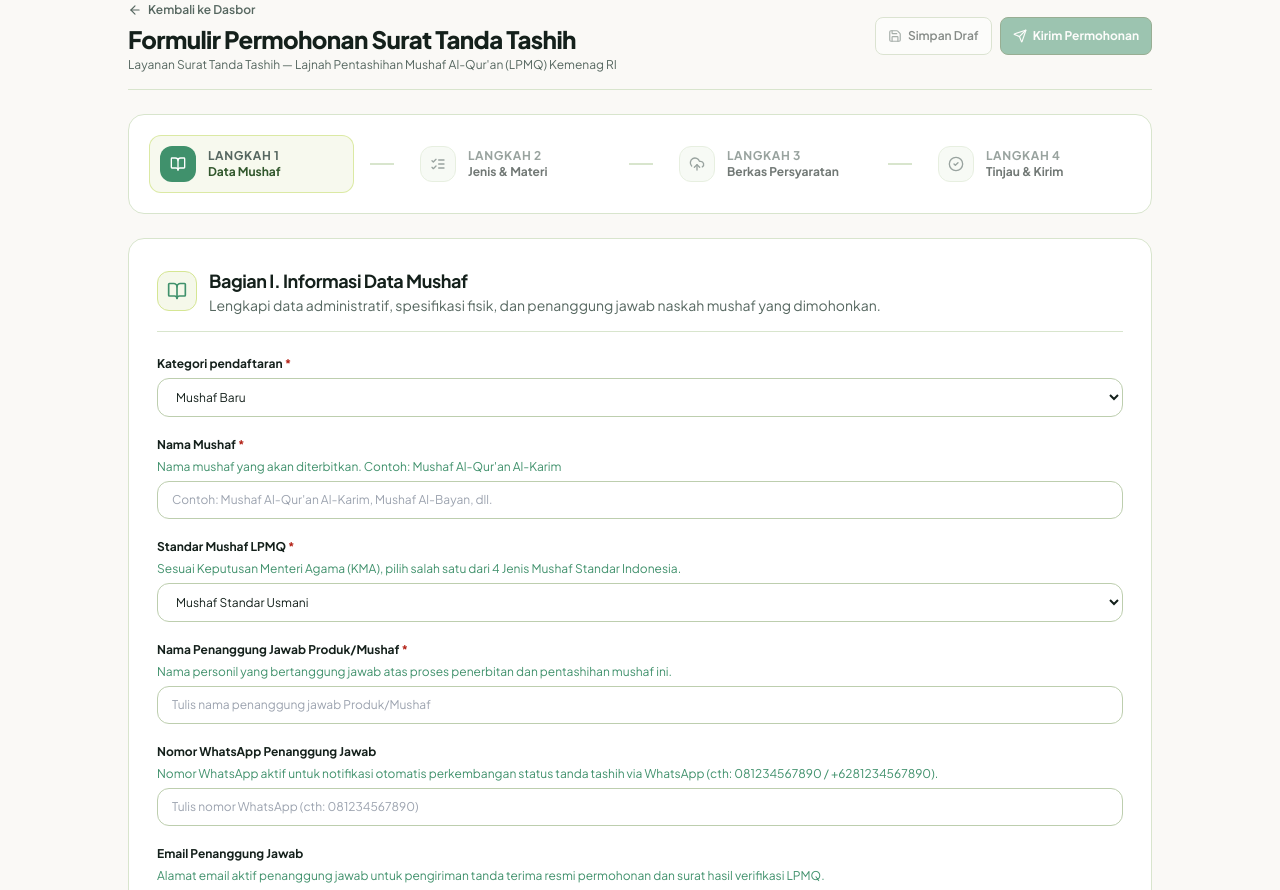
Scenario: NewRegistration Stepper and Enhancements › focuses on invalid WhatsApp input (registration-pj-wa) when validation fails
The image size is (1280, 890).
Type "Mushaf Al-Qur'an Standar" into the field with placeholder "Contoh: Mushaf Al-Qur'an Al-Karim, Mushaf Al-Bayan, dll." at (640, 500), box [157,481,1123,519]
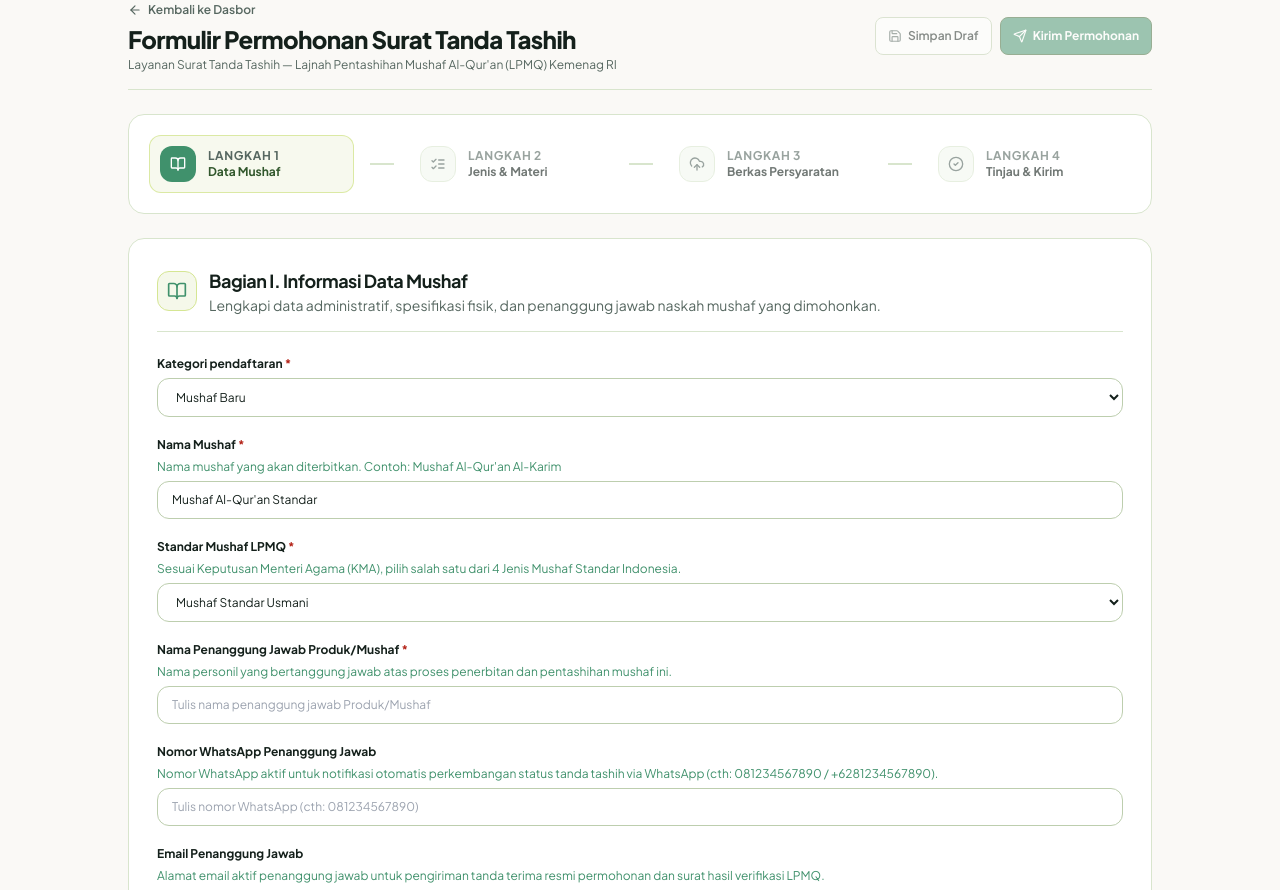
Type "Jasmin Izzah" into the field with placeholder "Tulis nama penanggung jawab Produk/Mushaf" at (640, 705), box [157,686,1123,724]
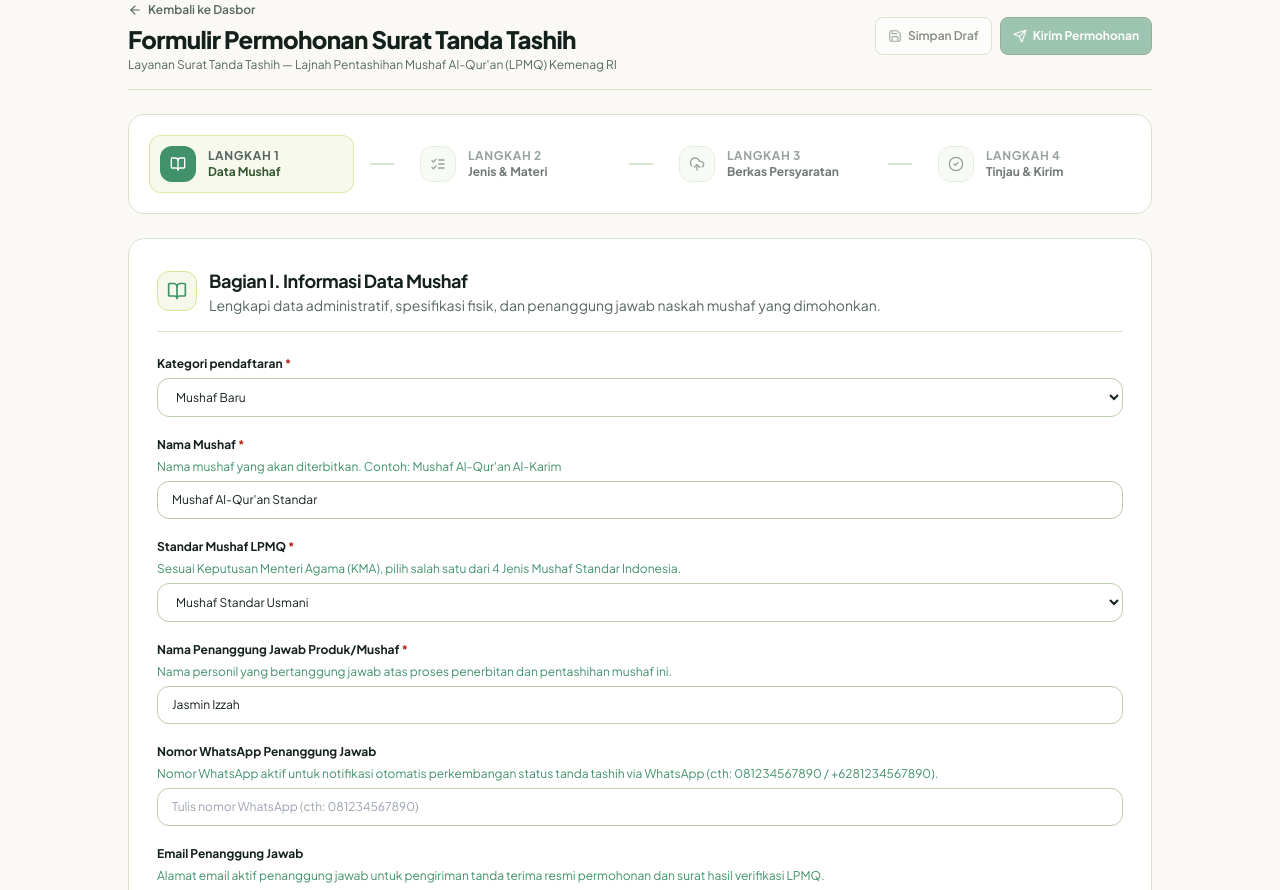
Type "123" into the field with id "registration-pj-wa" at (640, 807), box [157,788,1123,826]
(page scrolled)
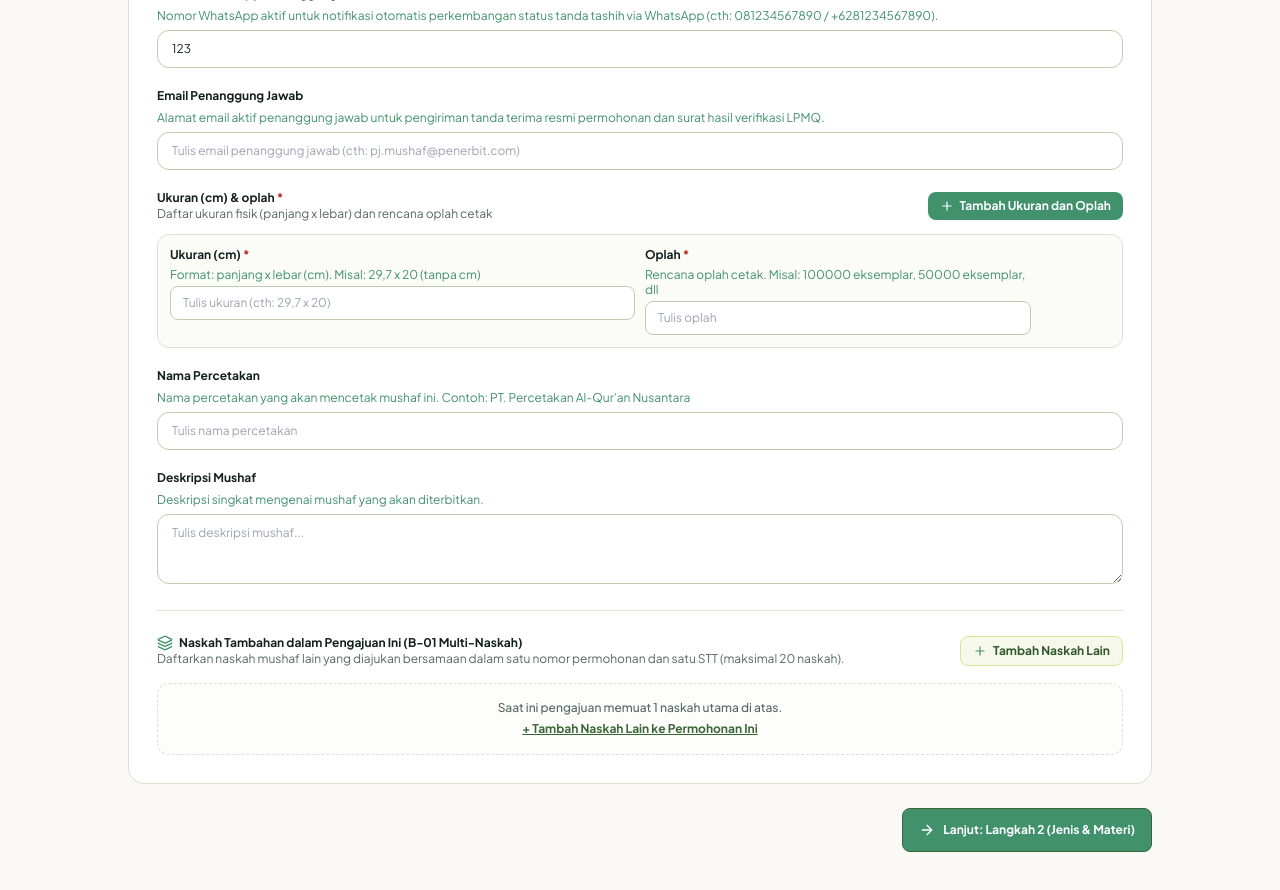
Click the button "Lanjut: Langkah 2 (Jenis & Materi)" at (1027, 830), box [902,808,1152,852]
(page scrolled)
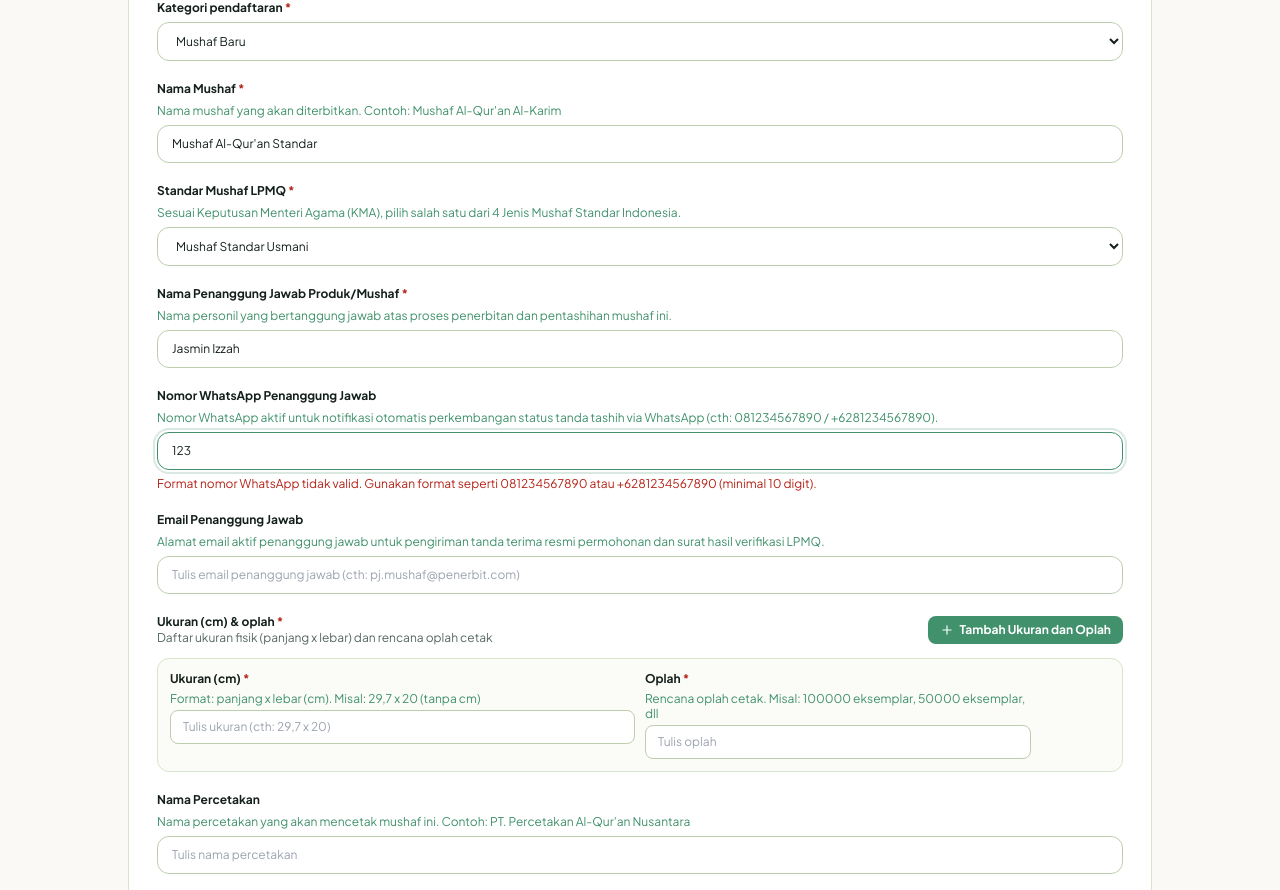
Check: the text "Format nomor WhatsApp tidak valid" is shown, box [157,476,817,491]
